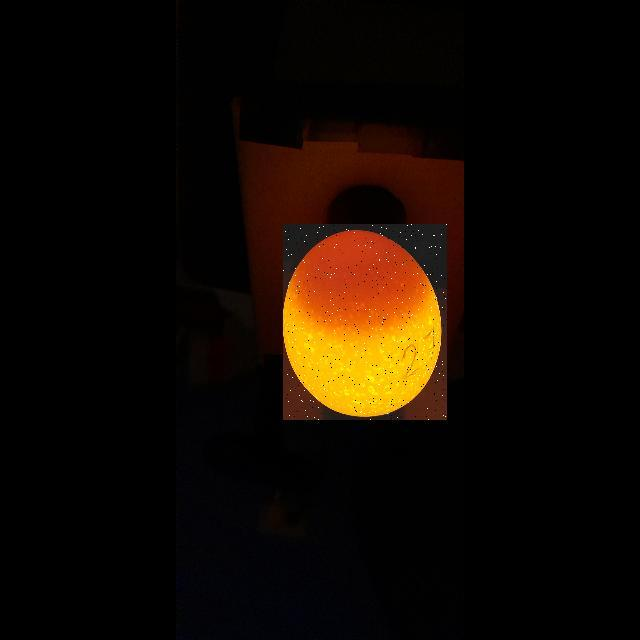A - Good: (283, 224, 447, 420)
